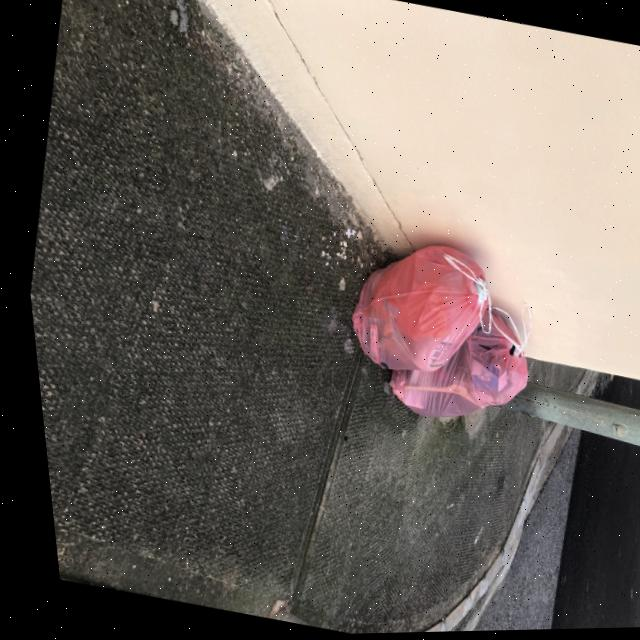Other: (326, 230, 499, 390), (372, 300, 538, 442)
